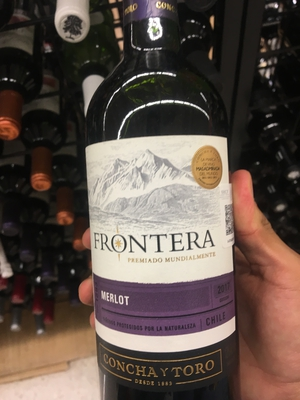frontera merlot: (66, 18, 253, 376)
